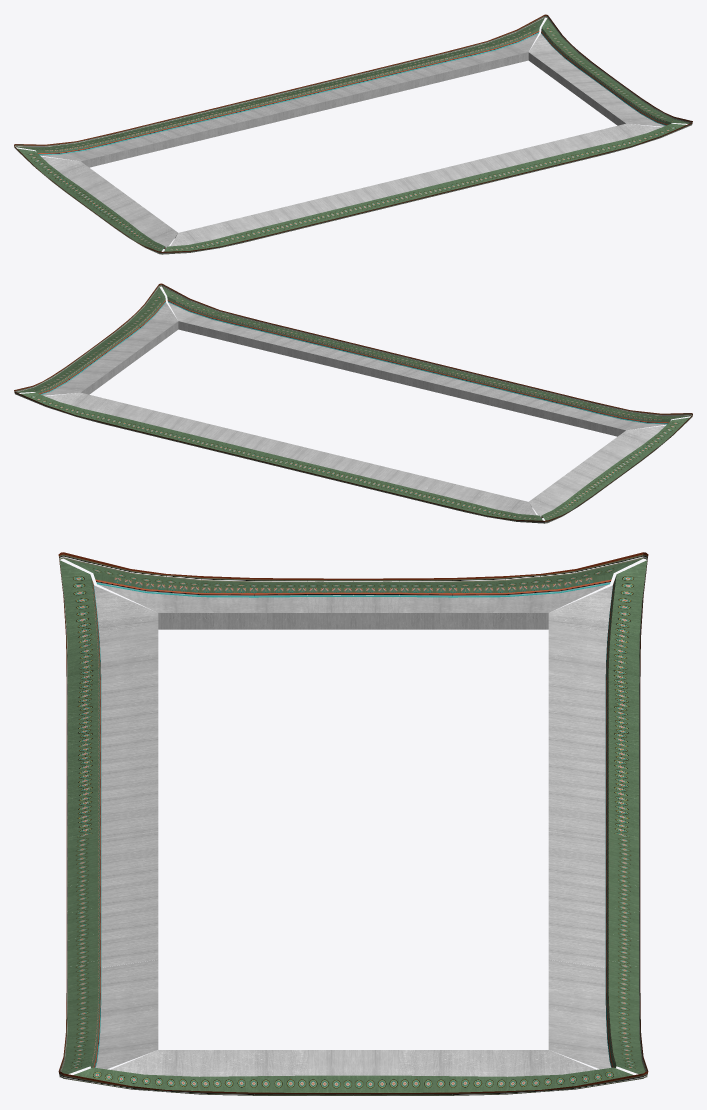
File: SM_Roofplate08B.fbx
3 renders of one model, top to bottom at view 1: azimuth 30°, elevation 25°; view 2: azimuth 150°, elevation 25°; view 3: azimuth 270°, elevation 25°, orthographic. The views are drawn at different scales.
Visible parts, largest first — view 1: SM_Roofplate08B; view 2: SM_Roofplate08B; view 3: SM_Roofplate08B.
Boxes of the visible parts, x1,y1,x2,y2 form: SM_Roofplate08B: (14,14,692,254); SM_Roofplate08B: (14,283,692,523); SM_Roofplate08B: (58,552,648,1095).
Bounding box in the file's own units: 3215 × 1537 × 103.
Materials: 1 (1 with a texture image).
